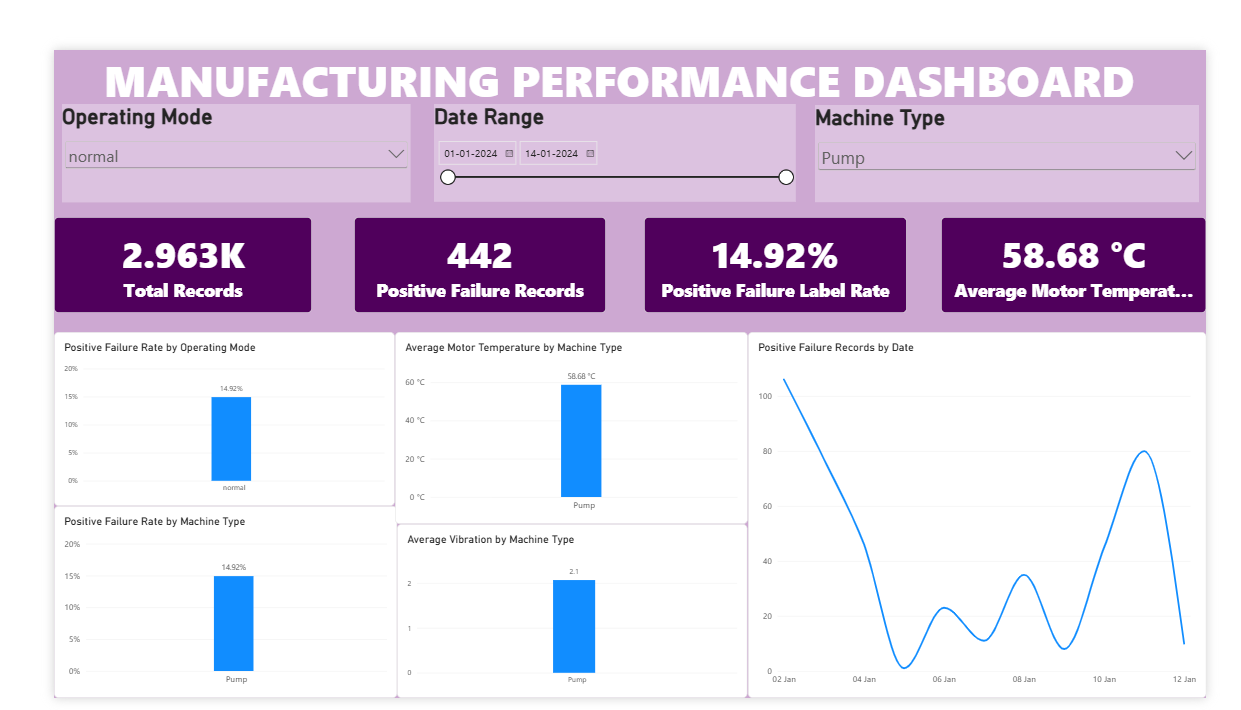

What the dashboard file says about the page in this screenshot:
{"tool":"powerbi","page":{"name":"Page 1","canvas":[1920,1080],"ordinal":0},"visuals":[{"type":"textbox","box":[84,0,1836.4,179.5],"z":7},{"type":"card","fields":{"Values":["manufacturing_cleaned.Total Records"]},"box":[0,278,430,160],"z":8},{"type":"card","fields":{"Values":["manufacturing_cleaned.Positive Failure Records"]},"box":[500,278,420,160],"z":9},{"type":"card","fields":{"Values":["manufacturing_cleaned.Positive Failure Label Rate"]},"box":[984,278,438,160],"z":10},{"type":"card","fields":{"Values":["manufacturing_cleaned.Average Motor Temperature"]},"box":[1478,278,442,160],"z":11},{"type":"clusteredColumnChart","title":"Positive Failure Rate by Machine Type","fields":{"Category":["manufacturing_cleaned.machine_type"],"Y":["manufacturing_cleaned.Positive Failure Label Rate"]},"box":[0,760,572,320],"z":12},{"type":"clusteredColumnChart","title":"Positive Failure Rate by Operating Mode","fields":{"Category":["manufacturing_cleaned.operating_mode"],"Y":["manufacturing_cleaned.Positive Failure Label Rate"]},"box":[0,470,568,290],"z":13},{"type":"clusteredColumnChart","title":"Average Motor Temperature by Machine Type","fields":{"Category":["manufacturing_cleaned.machine_type"],"Y":["manufacturing_cleaned.Average Motor Temperature"]},"box":[568,470,588,320],"z":14},{"type":"clusteredColumnChart","title":"Average Vibration by Machine Type","fields":{"Category":["manufacturing_cleaned.machine_type"],"Y":["manufacturing_cleaned.Average Vibration"]},"box":[572,790,584,290],"z":15},{"type":"lineChart","title":"Positive Failure Records by Date","fields":{"Category":["manufacturing_cleaned.timestamp.Variation.Date Hierarchy.Year","manufacturing_cleaned.timestamp.Variation.Date Hierarchy.Quarter","manufacturing_cleaned.timestamp.Variation.Date Hierarchy.Month","manufacturing_cleaned.timestamp.Variation.Date Hierarchy.Day"],"Y":["manufacturing_cleaned.Positive Failure Records"]},"box":[1156,470,764,610],"z":16},{"type":"slicer","title":"Machine Type","fields":{"Values":["manufacturing_cleaned.machine_type"]},"box":[1268.3,91.7,640,161.7],"z":17},{"type":"slicer","title":"Date Range","fields":{"Values":["manufacturing_cleaned.timestamp"]},"box":[633.3,90,603.3,163.3],"z":18},{"type":"slicer","title":"Operating Mode","fields":{"Values":["manufacturing_cleaned.operating_mode"]},"box":[13.8,90,581.2,163.8],"z":19}]}

Visuals, with their boxes in screenshot pixels (x1, y1, x2, y2), scaled from the page's 1920x1080 canvas onto the 1241x710 screenshot:
textbox: box=[54, 0, 1240, 118]
card - manufacturing_cleaned.Total Records: box=[0, 183, 278, 288]
card - manufacturing_cleaned.Positive Failure Records: box=[323, 183, 595, 288]
card - manufacturing_cleaned.Positive Failure Label Rate: box=[636, 183, 919, 288]
card - manufacturing_cleaned.Average Motor Temperature: box=[955, 183, 1240, 288]
"Positive Failure Rate by Machine Type" clusteredColumnChart: box=[0, 500, 370, 709]
"Positive Failure Rate by Operating Mode" clusteredColumnChart: box=[0, 309, 367, 500]
"Average Motor Temperature by Machine Type" clusteredColumnChart: box=[367, 309, 747, 519]
"Average Vibration by Machine Type" clusteredColumnChart: box=[370, 519, 747, 709]
"Positive Failure Records by Date" lineChart: box=[747, 309, 1240, 709]
"Machine Type" slicer: box=[820, 60, 1233, 167]
"Date Range" slicer: box=[409, 59, 799, 167]
"Operating Mode" slicer: box=[9, 59, 385, 167]
